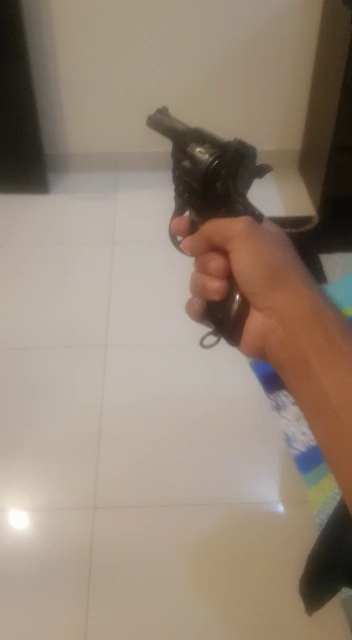handgun: (121, 99, 304, 424)
